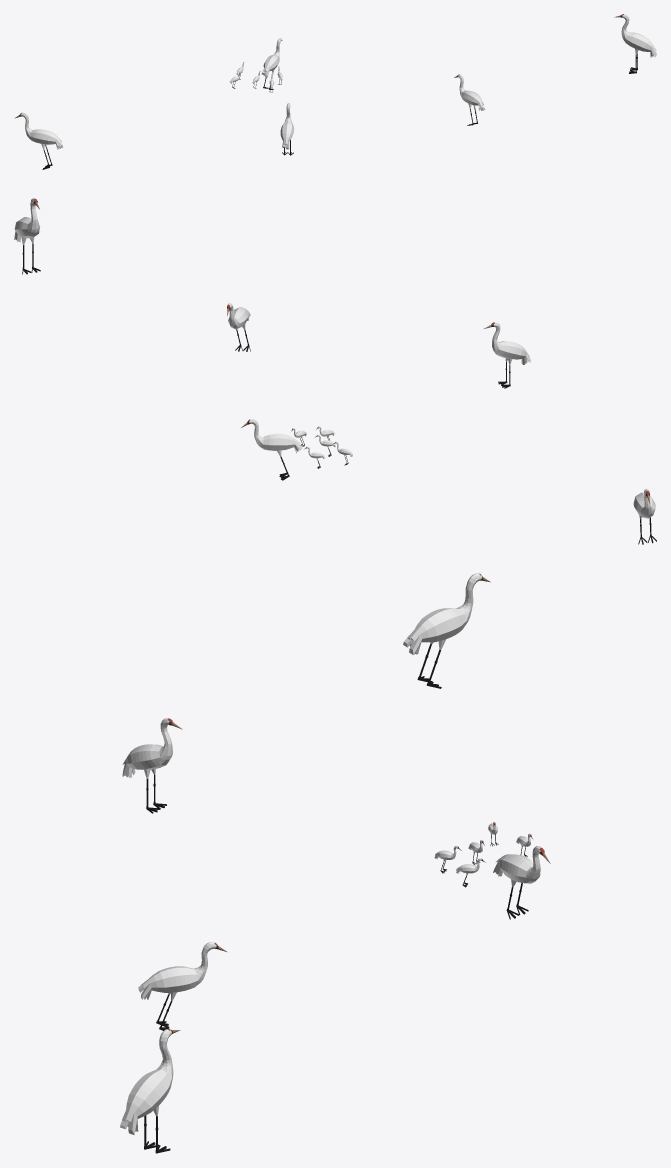
File: crane_group.glb
3 renders of one model, top to bottom at view 1: azimuth 30°, elevation 25°; view 2: azimuth 150°, elevation 25°; view 3: azimuth 270°, elevation 25°, orthographic. The views are drawn at different scales.
Visible parts, largest first — view 1: Whooping_Crane_geo_02, Whooping_Crane_geo_011, Whooping_Crane_geo_03, Whooping_Crane_geo_01, Whooping_Crane_geo_04; view 2: Whooping_Crane_geo_04, Whooping_Crane_geo_01, Whooping_Crane_geo_02, Whooping_Crane_geo_011, Whooping_Crane_geo_03; view 3: Whooping_Crane_geo_02, Whooping_Crane_geo_011, Whooping_Crane_geo_03, Whooping_Crane_geo_01, Whooping_Crane_geo_04.
Boxes of the visible parts, x1,y1,x2,y2 form: Whooping_Crane_geo_02: (614,14,656,73); Whooping_Crane_geo_011: (14,112,63,169); Whooping_Crane_geo_03: (454,74,485,125); Whooping_Crane_geo_01: (280,103,294,155); Whooping_Crane_geo_04: (261,38,282,89); Whooping_Crane_geo_04: (241,419,302,480); Whooping_Crane_geo_01: (484,322,530,388); Whooping_Crane_geo_02: (14,198,40,274); Whooping_Crane_geo_011: (633,488,656,544); Whooping_Crane_geo_03: (227,303,250,351); Whooping_Crane_geo_02: (120,1028,180,1153); Whooping_Crane_geo_011: (403,573,490,688); Whooping_Crane_geo_03: (138,942,227,1030); Whooping_Crane_geo_01: (122,718,182,813); Whooping_Crane_geo_04: (493,846,550,919).
Bounding box in the file's own units: 15 × 2.02 × 5.06.
Materials: 20 (10 with a texture image).
